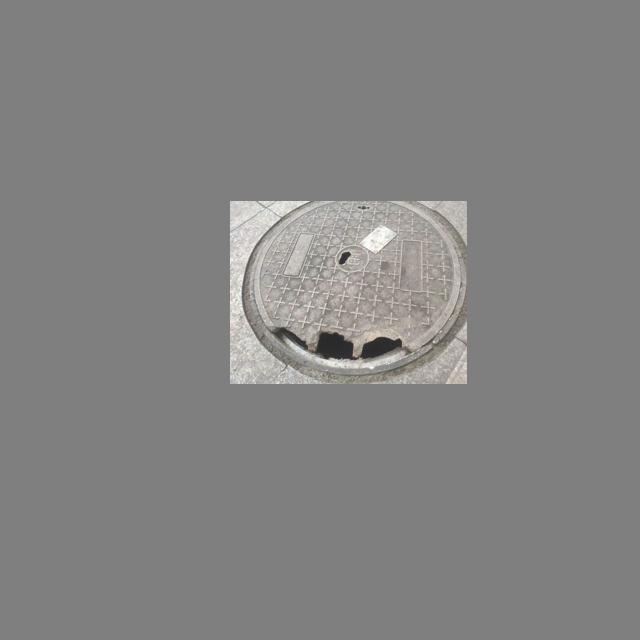broke: (250, 201, 467, 376)
